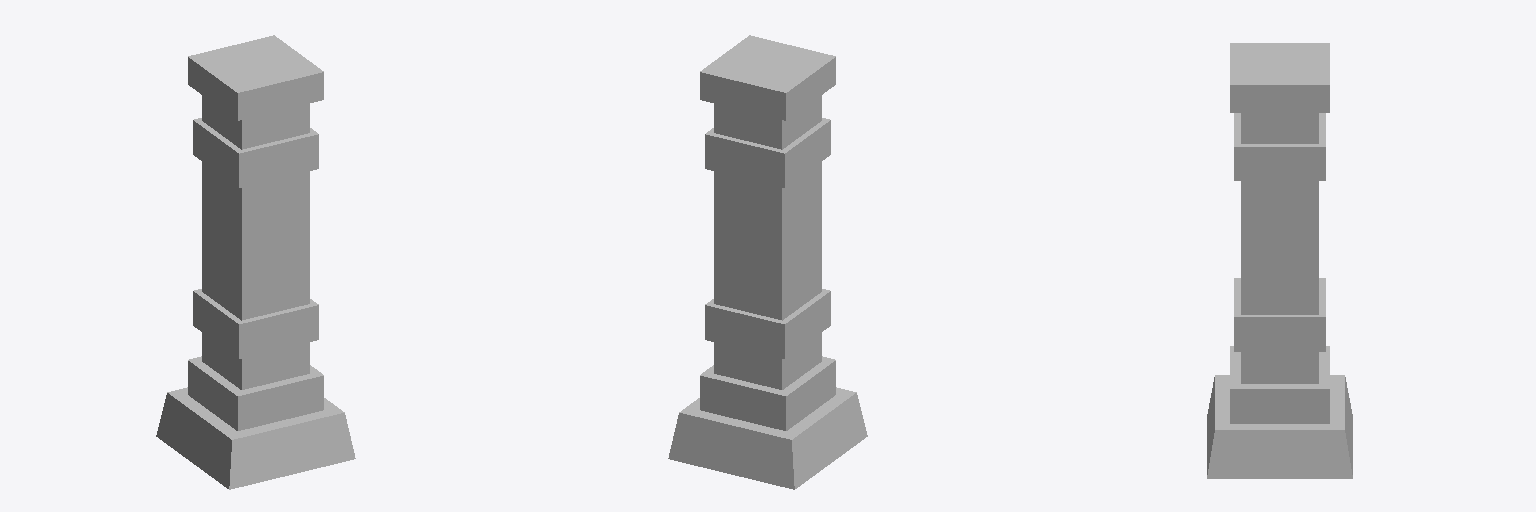
The model's file is columnLarge.obj.
3 renders of one model, left to right at view 1: azimuth 30°, elevation 25°; view 2: azimuth 150°, elevation 25°; view 3: azimuth 270°, elevation 25°, orthographic.
Visible parts, largest first — view 1: columnLarge; view 2: columnLarge; view 3: columnLarge.
Part boxes in pixels (left/top/right/bottom): columnLarge: left=156, top=35, right=355, bottom=489; columnLarge: left=668, top=35, right=867, bottom=489; columnLarge: left=1207, top=43, right=1352, bottom=478.
Size of the model in its own units: 0.38 by 1.1 by 0.38.